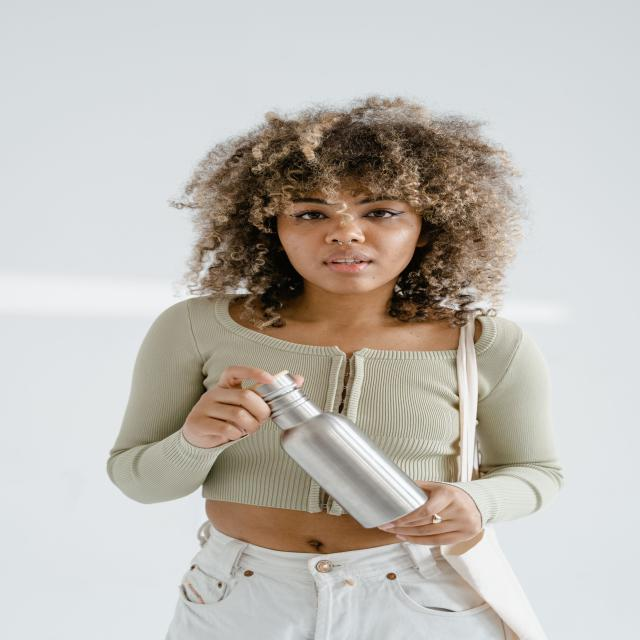Bottle: (251, 373, 427, 528)
